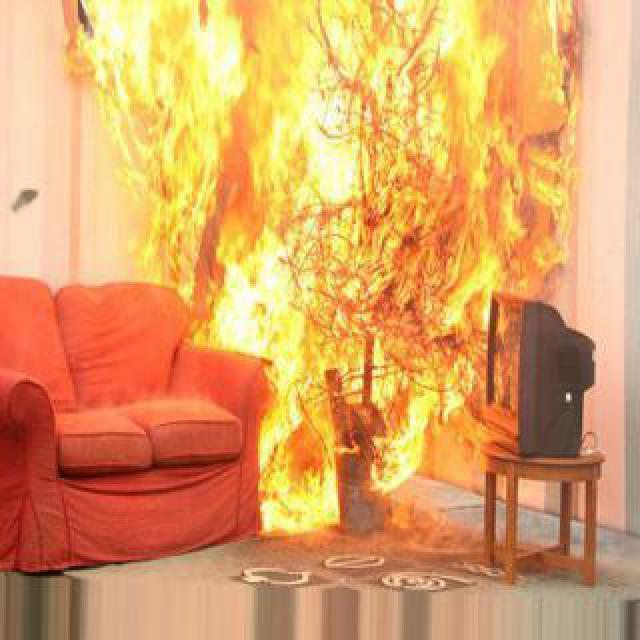Fire: (102, 8, 570, 494)
